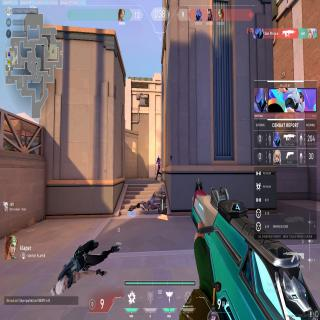ENEMY-BODY: (156, 154, 162, 180)
ENEMY-HEAD: (158, 155, 160, 160)
